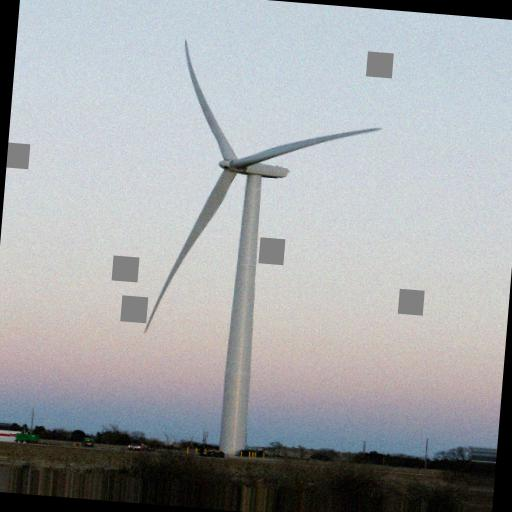wind turbine: (144, 39, 382, 458)
